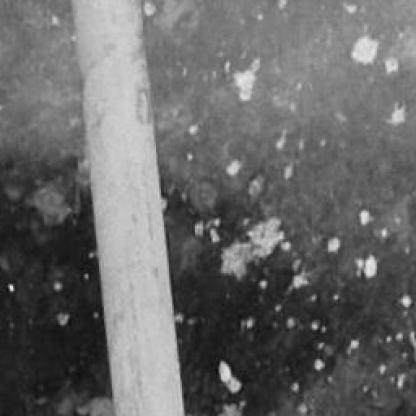PVC: (70, 1, 185, 414)
